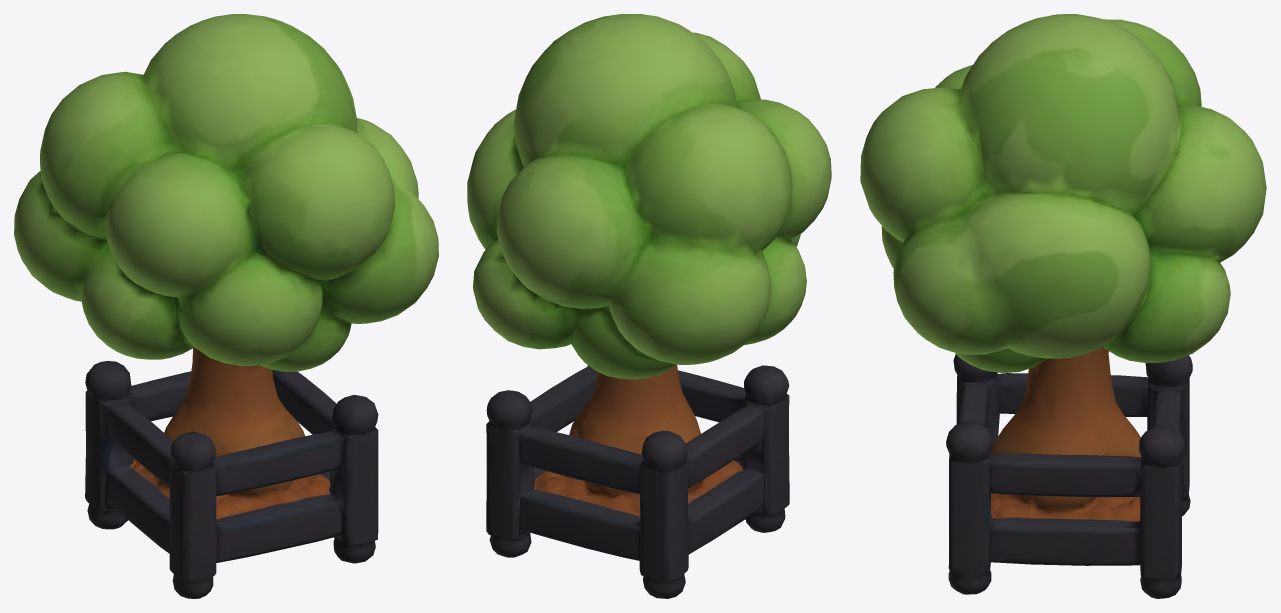
Rendered from tree.glb.
3 views of the same model, side by side, from view 1: azimuth 30°, elevation 25°; view 2: azimuth 150°, elevation 25°; view 3: azimuth 270°, elevation 25° (orthographic). The views are drawn at different scales.
Visible parts, largest first — view 1: tripo_node_b6579518-e89e-47a2-8573-cba2c1349ea3; view 2: tripo_node_b6579518-e89e-47a2-8573-cba2c1349ea3; view 3: tripo_node_b6579518-e89e-47a2-8573-cba2c1349ea3.
Boxes of the visible parts, x1,y1,x2,y2 form: tripo_node_b6579518-e89e-47a2-8573-cba2c1349ea3: (14, 14, 438, 598); tripo_node_b6579518-e89e-47a2-8573-cba2c1349ea3: (467, 14, 831, 598); tripo_node_b6579518-e89e-47a2-8573-cba2c1349ea3: (860, 14, 1266, 598).
Bounding box in the file's own units: 0.6489 × 0.9802 × 0.6776.
Materials: 1 (1 with a texture image).
